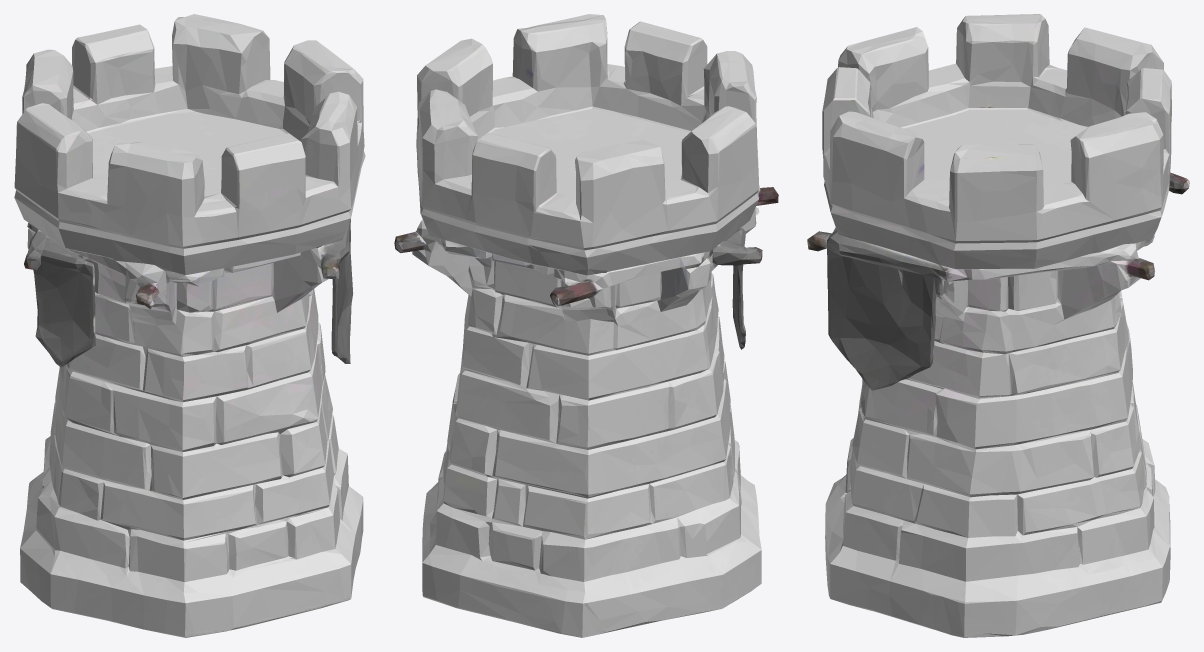
Rendered from stone_tower_2.glb.
3 views of the same model, side by side, from view 1: azimuth 30°, elevation 25°; view 2: azimuth 150°, elevation 25°; view 3: azimuth 270°, elevation 25° (orthographic).
Bounding box in the file's own units: 1.43 × 1.97 × 1.43.
1 material, 1 textured.
